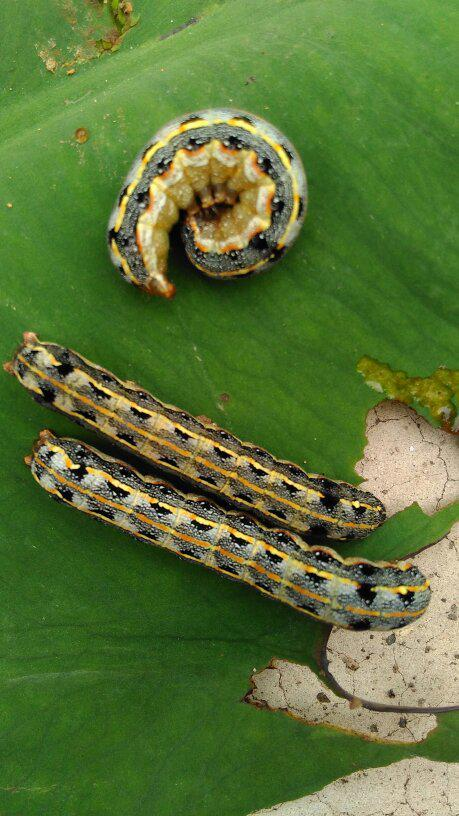caterpillars: (1, 412, 456, 678), (0, 319, 430, 554), (79, 78, 338, 337)
